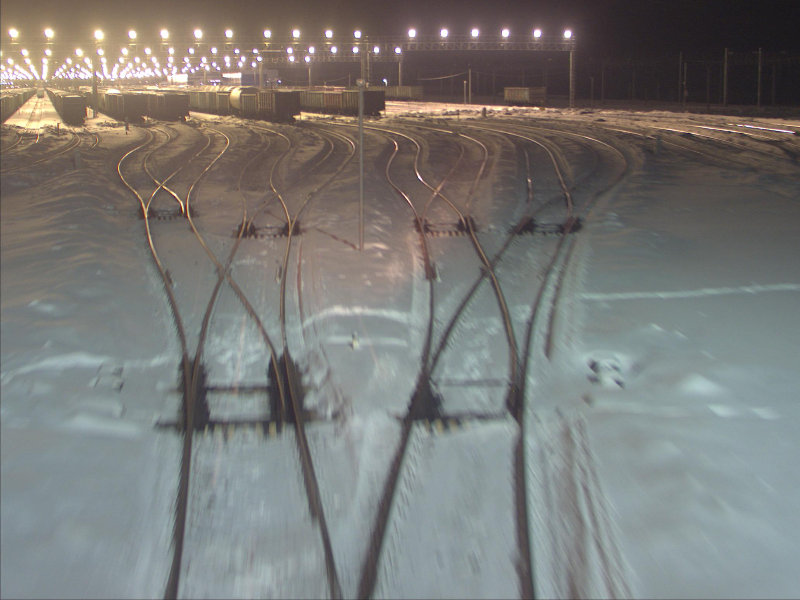left: (240, 213, 292, 240)
right: (178, 339, 305, 430), (413, 343, 532, 430), (406, 204, 481, 238), (138, 198, 193, 220)
